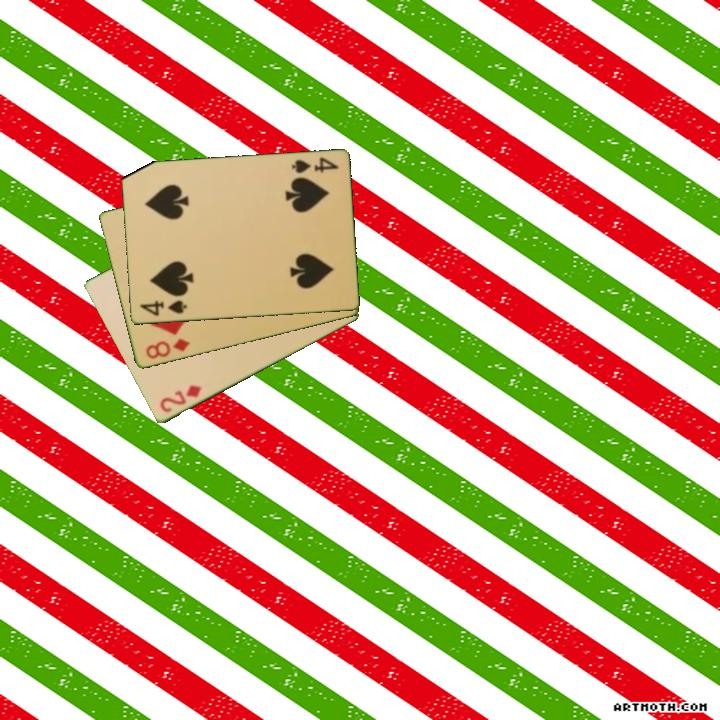2d: (156, 381, 204, 416)
4s: (136, 297, 190, 319), (287, 154, 341, 176)
8d: (142, 335, 193, 362)
